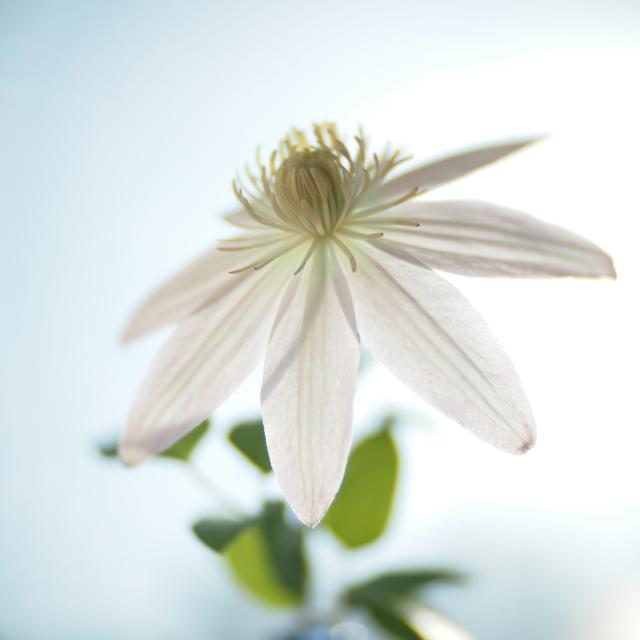Flower: (119, 117, 619, 529)
